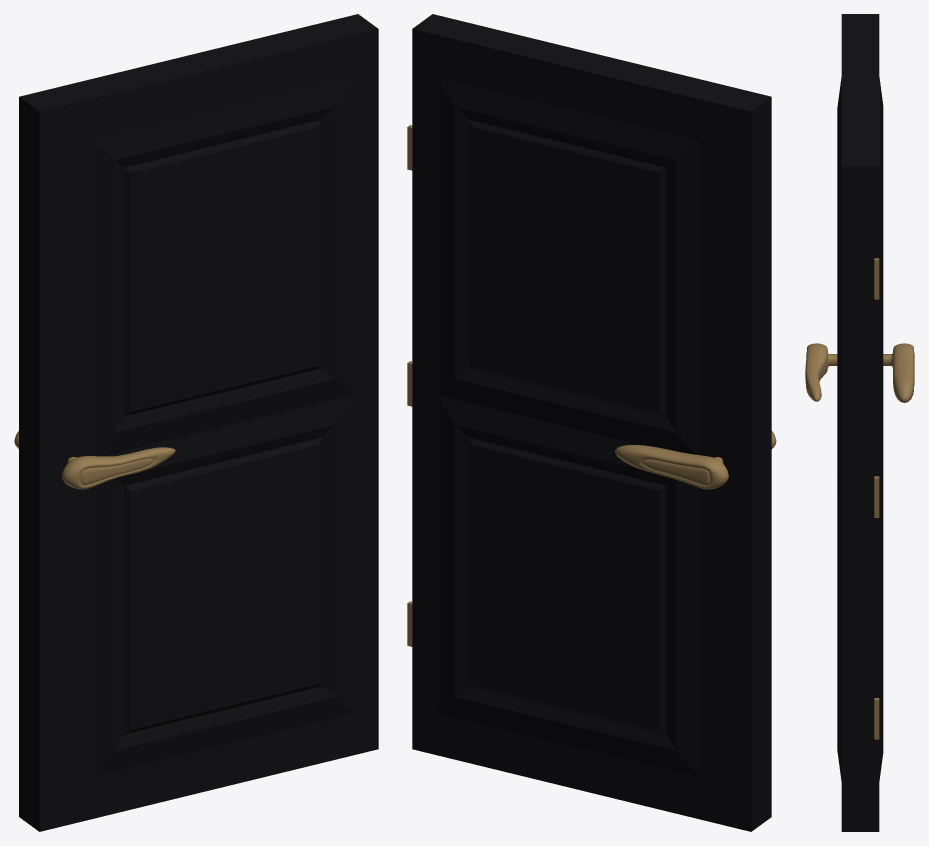
Rendered from Right_Door.fbx.
3 views of the same model, side by side, from view 1: azimuth 30°, elevation 25°; view 2: azimuth 150°, elevation 25°; view 3: azimuth 270°, elevation 25° (orthographic). The views are drawn at different scales.
Visible parts, largest first — view 1: Puerta_Der; view 2: Puerta_Der; view 3: Puerta_Der.
Part boxes in pixels (box(x1,y1,x2,y2)): Puerta_Der: box(14, 14, 378, 831); Puerta_Der: box(407, 14, 776, 831); Puerta_Der: box(805, 14, 914, 831).
Size of the model in its own units: 99.91 by 200 by 29.76.
